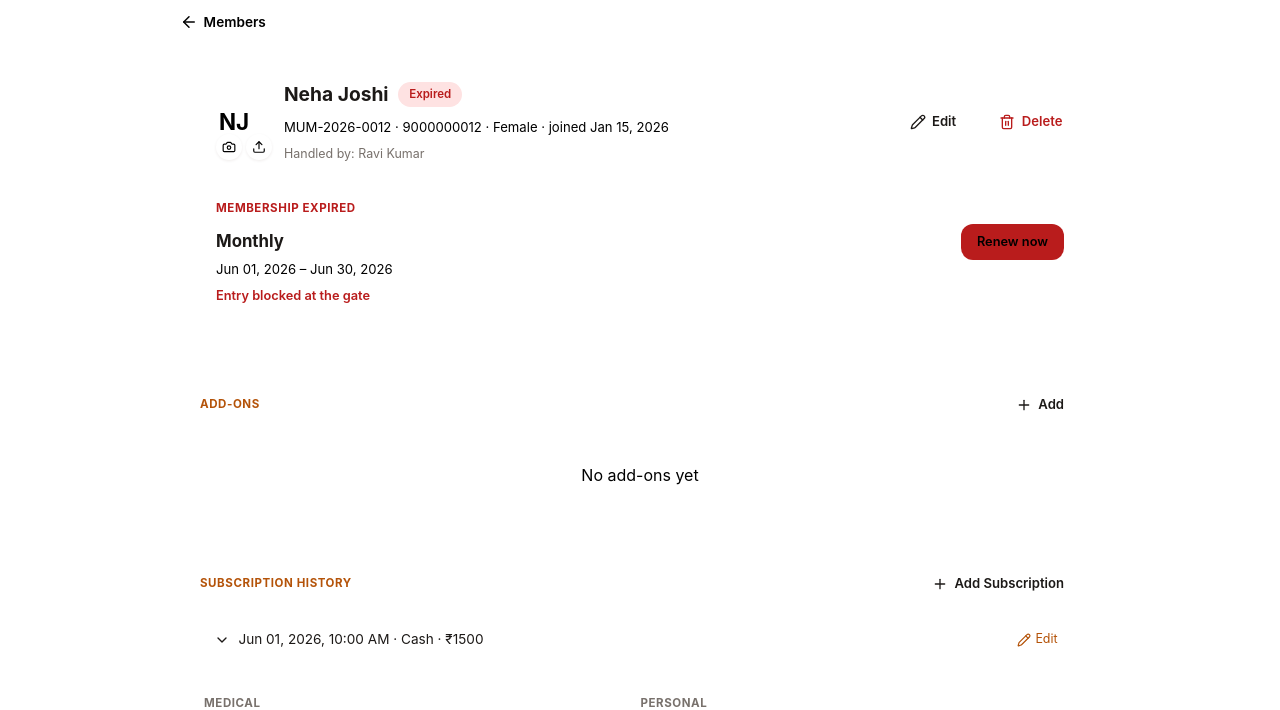
Test case: MemberDetailPage — add-ons and subscription history › a failed history edit shows a specific message (anything else) and keeps the form
Click the button with class "member-detail-history-edit".
click(1037, 640)  # box [1009,618,1066,662]
(page scrolled)
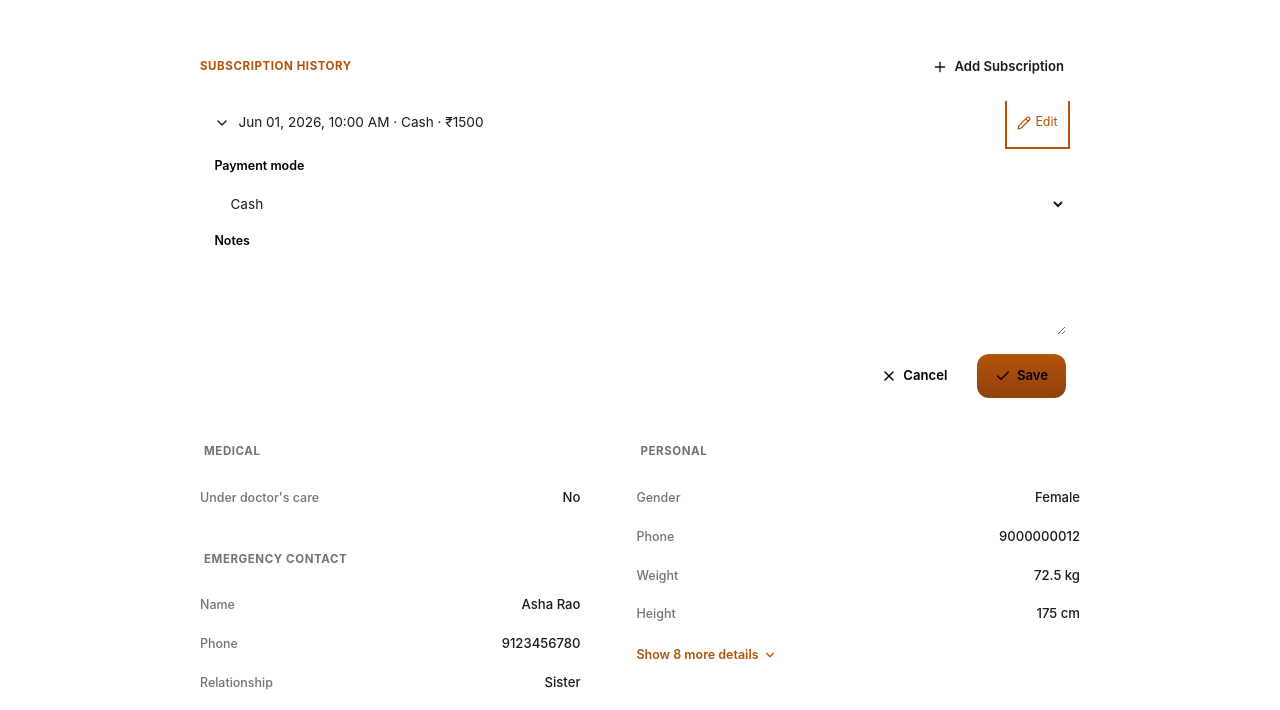
Click the button "Save".
click(1021, 376)  # box [977,354,1066,398]
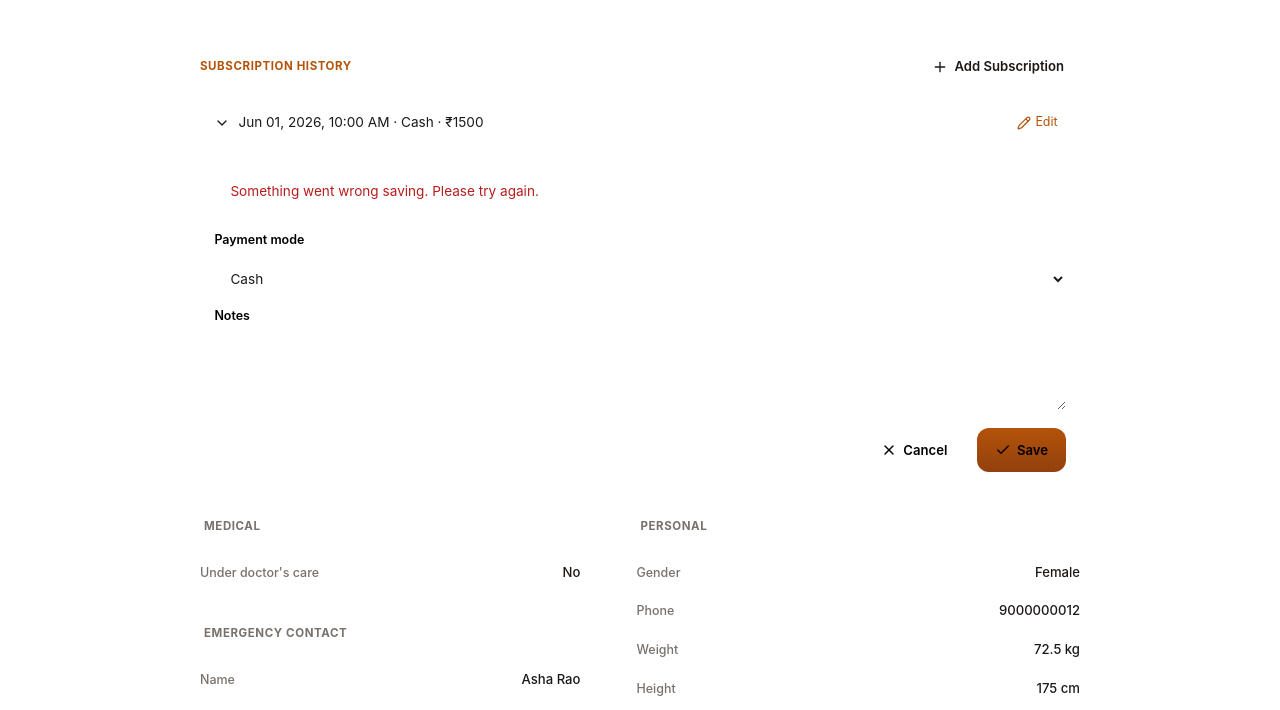
Expected: the text "Something went wrong saving. Please try again." is shown, [230,183,539,199]
